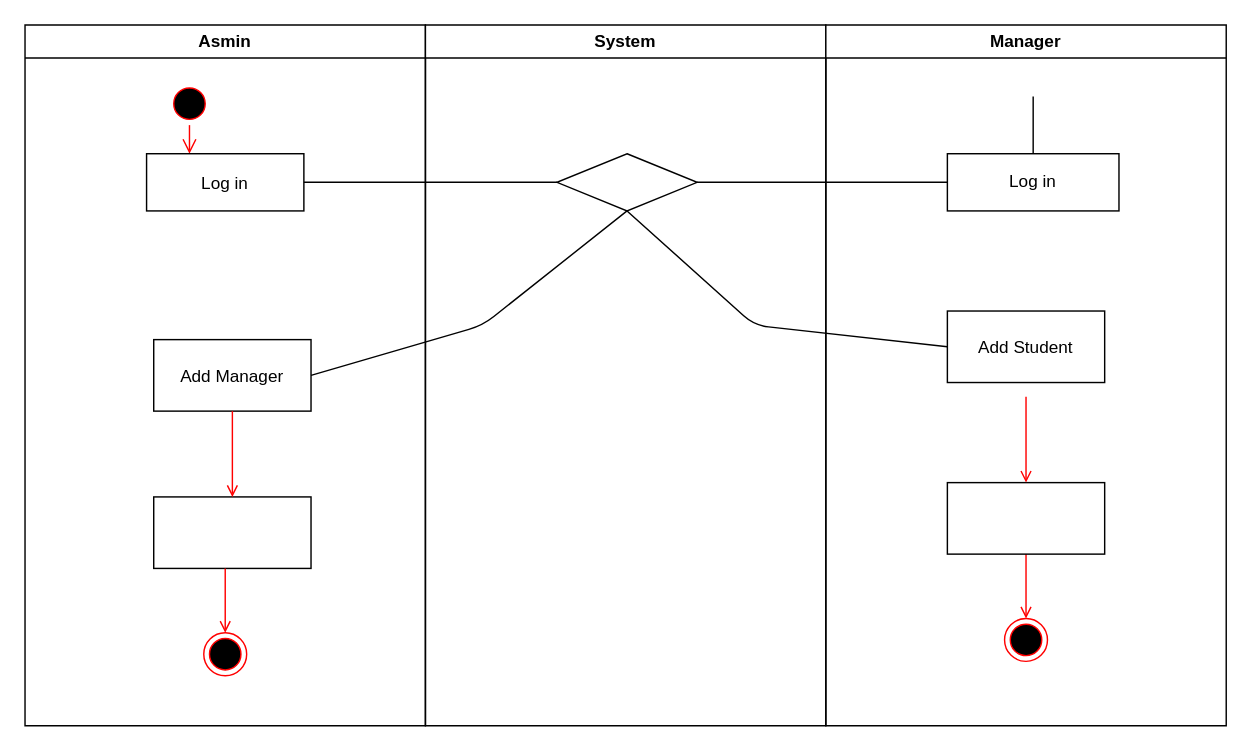
The diagram is 1251 pixels wide and 751 high, and some of its shapes have lost their labels. The shapes that lost their labels are listed below. From the top down, each one's centre as x and y in pixels, then its label:
At point (626, 181): "varify".
At point (231, 531): "View Database".
At point (1025, 517): "Manage Database".
